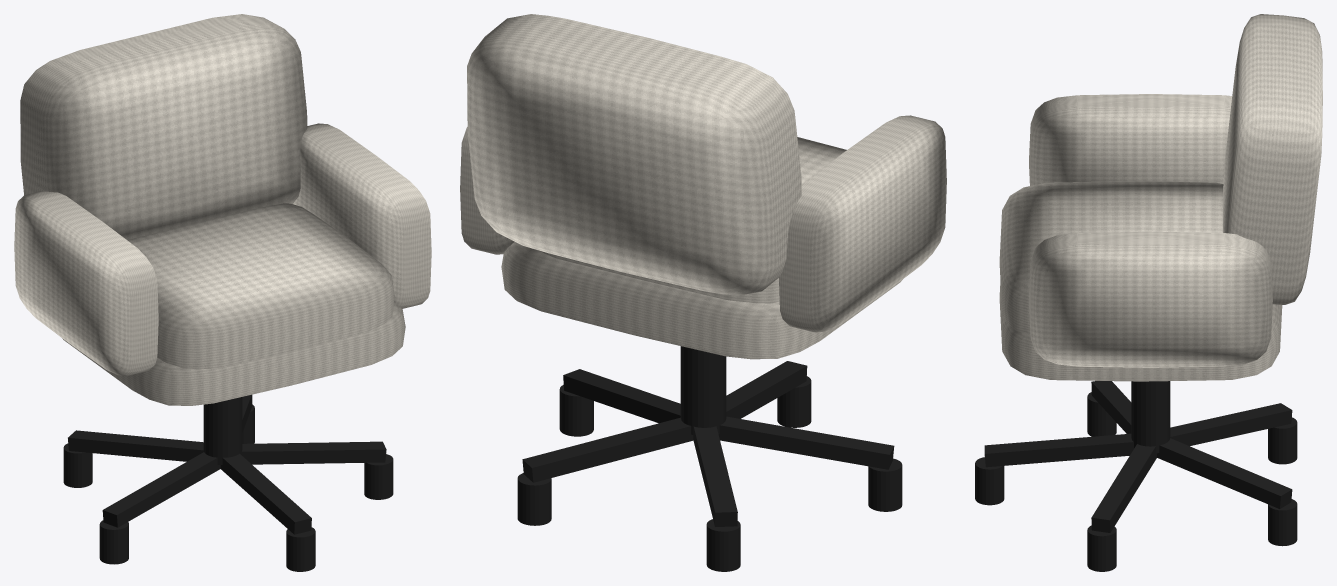
3 renders of one model, left to right at view 1: azimuth 30°, elevation 25°; view 2: azimuth 150°, elevation 25°; view 3: azimuth 270°, elevation 25°, orthographic. The views are drawn at different scales.
Visible parts, largest first — view 1: 3 backrest, 2 seat_cushion, 4 left_armrest, 5 right_armrest, 1 seat_base, 9 base_spoke_2, 12 base_spoke_5, 11 base_spoke_4, 8 base_spoke_1, 6 gas_lift_cylinder, 13 wheel_1, 17 wheel_5 (+2 smaller); view 2: 3 backrest, 4 left_armrest, 1 seat_base, 10 base_spoke_3, 12 base_spoke_5, 6 gas_lift_cylinder, 9 base_spoke_2, 11 base_spoke_4, 2 seat_cushion, 8 base_spoke_1, 5 right_armrest, 16 wheel_4 (+4 smaller); view 3: 5 right_armrest, 3 backrest, 4 left_armrest, 2 seat_cushion, 1 seat_base, 8 base_spoke_1, 10 base_spoke_3, 11 base_spoke_4, 6 gas_lift_cylinder, 9 base_spoke_2, 12 base_spoke_5, 14 wheel_2 (+4 smaller).
Boxes of the visible parts, bbox=[...] form: 3 backrest: bbox=[20, 14, 307, 239]; 2 seat_cushion: bbox=[127, 203, 394, 369]; 4 left_armrest: bbox=[14, 191, 158, 375]; 5 right_armrest: bbox=[293, 123, 431, 308]; 1 seat_base: bbox=[62, 303, 405, 405]; 9 base_spoke_2: bbox=[241, 441, 386, 464]; 12 base_spoke_5: bbox=[102, 452, 220, 527]; 11 base_spoke_4: bbox=[68, 430, 203, 461]; 8 base_spoke_1: bbox=[220, 453, 311, 534]; 6 gas_lift_cylinder: bbox=[203, 397, 242, 464]; 13 wheel_1: bbox=[286, 527, 315, 571]; 17 wheel_5: bbox=[99, 520, 128, 564]; 3 backrest: bbox=[467, 14, 801, 295]; 4 left_armrest: bbox=[779, 115, 946, 332]; 1 seat_base: bbox=[501, 242, 902, 359]; 10 base_spoke_3: bbox=[522, 417, 693, 482]; 12 base_spoke_5: bbox=[718, 416, 894, 469]; 6 gas_lift_cylinder: bbox=[680, 346, 726, 434]; 9 base_spoke_2: bbox=[563, 369, 680, 423]; 11 base_spoke_4: bbox=[693, 426, 737, 526]; 2 seat_cushion: bbox=[537, 137, 846, 303]; 8 base_spoke_1: bbox=[726, 361, 807, 418]; 5 right_armrest: bbox=[460, 127, 514, 254]; 16 wheel_4: bbox=[706, 519, 740, 571]; 5 right_armrest: bbox=[1029, 231, 1272, 367]; 3 backrest: bbox=[1223, 14, 1322, 304]; 4 left_armrest: bbox=[1029, 94, 1232, 185]; 2 seat_cushion: bbox=[999, 181, 1223, 332]; 1 seat_base: bbox=[999, 282, 1282, 381]; 8 base_spoke_1: bbox=[984, 433, 1133, 467]; 10 base_spoke_3: bbox=[1157, 438, 1292, 508]; 11 base_spoke_4: bbox=[1170, 403, 1292, 446]; 6 gas_lift_cylinder: bbox=[1131, 381, 1170, 453]; 9 base_spoke_2: bbox=[1091, 444, 1156, 532]; 12 base_spoke_5: bbox=[1091, 381, 1131, 433]; 14 wheel_2: bbox=[1087, 525, 1116, 571].
Bounding box in the file's own units: 0.78 × 1 × 0.72.
3 materials, 1 textured.
